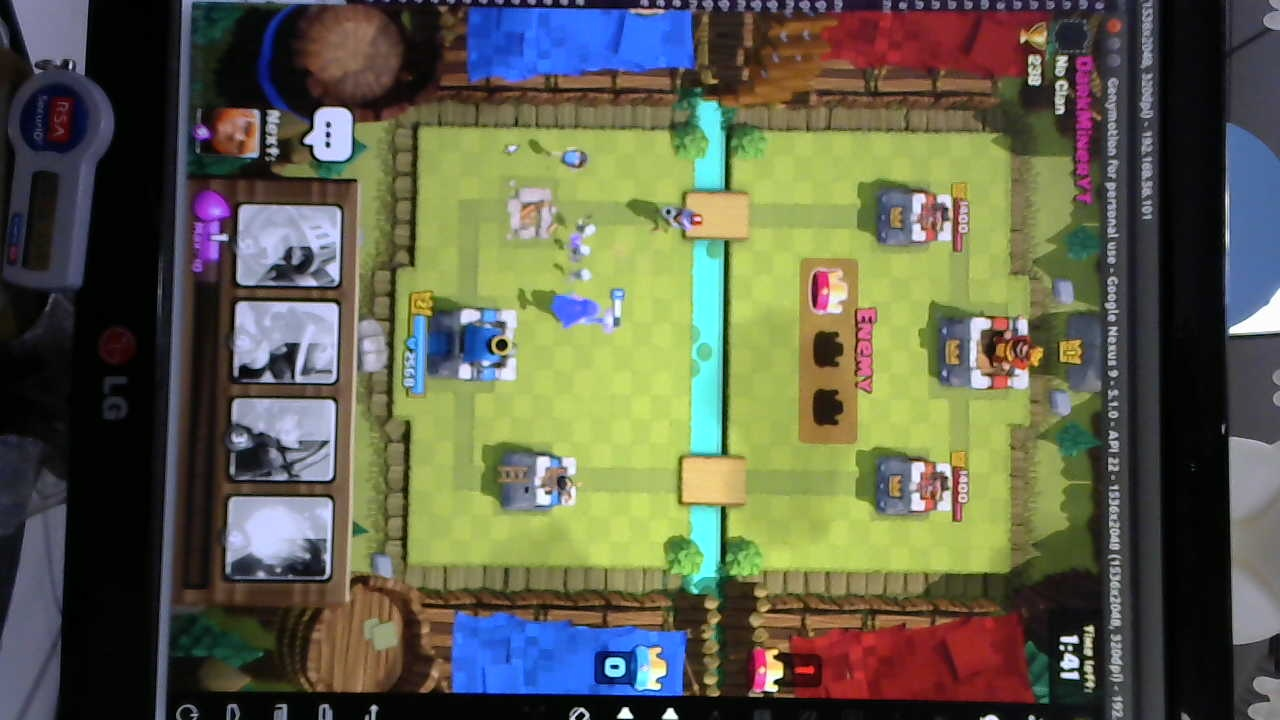arena: (496, 446, 579, 513)
bomb: (553, 146, 594, 172)
darena: (503, 185, 559, 243)
earena: (866, 455, 957, 517), (873, 187, 957, 249)
eking: (934, 309, 1047, 393)
king: (425, 304, 526, 385)
musketeer: (651, 205, 701, 236)
skeleton: (560, 209, 599, 293)
witch: (536, 295, 619, 328)
